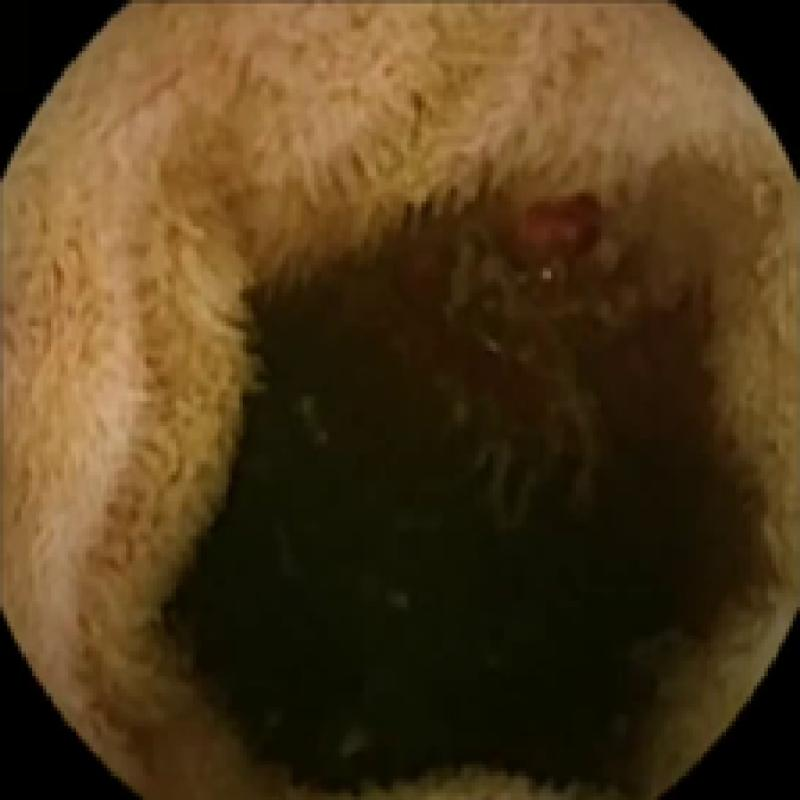bleeding: (364, 266, 720, 460), (508, 195, 604, 265)
